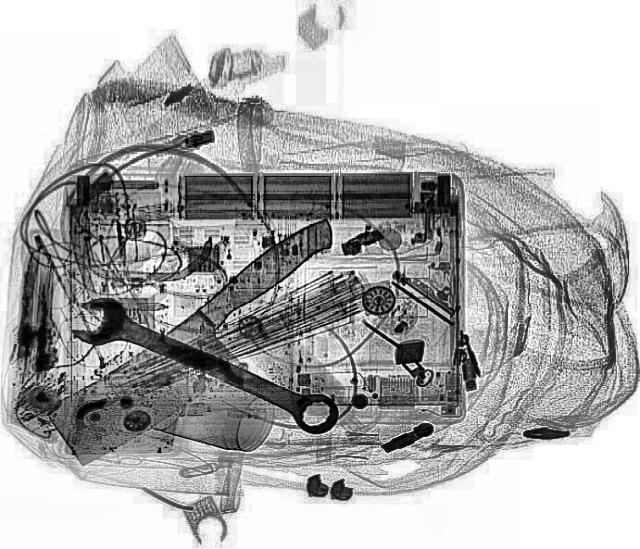Knife: (19, 214, 388, 468)
Wrench: (58, 288, 354, 436)
